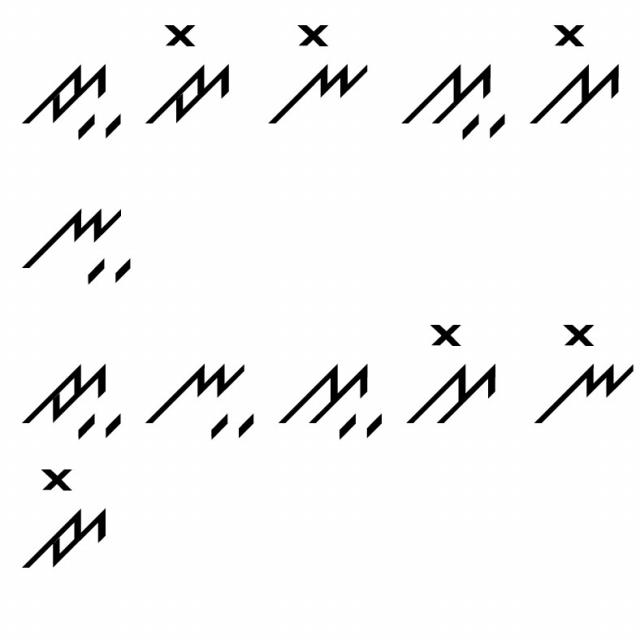jah: (15, 348, 124, 447), (15, 56, 124, 154)
jo: (17, 464, 113, 576), (146, 18, 238, 130)
nyah: (144, 339, 258, 444), (17, 200, 137, 288)
nyo: (262, 16, 372, 129), (532, 316, 636, 435)
sah: (395, 50, 511, 147), (274, 357, 392, 446)
so: (528, 12, 624, 131), (408, 318, 504, 436)
